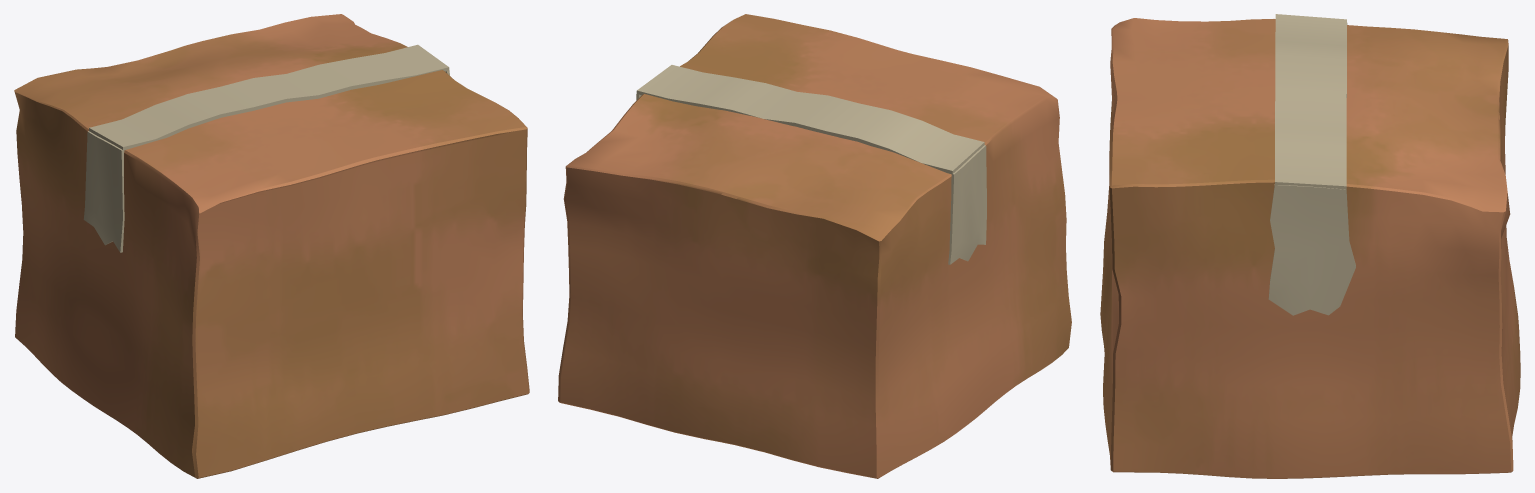
File: square_box2.fbx
3 views of the same model, side by side, from view 1: azimuth 30°, elevation 25°; view 2: azimuth 150°, elevation 25°; view 3: azimuth 270°, elevation 25° (orthographic). The views are drawn at different scales.
Parts seen in each view (by area): view 1: square_box2; view 2: square_box2; view 3: square_box2.
Part boxes in pixels (left/top/right/bottom): square_box2: left=14, top=14, right=529, bottom=478; square_box2: left=558, top=14, right=1071, bottom=478; square_box2: left=1100, top=14, right=1520, bottom=478.
Size of the model in its own units: 2.96 by 2.29 by 2.9.
Materials: 2 (1 with a texture image).
